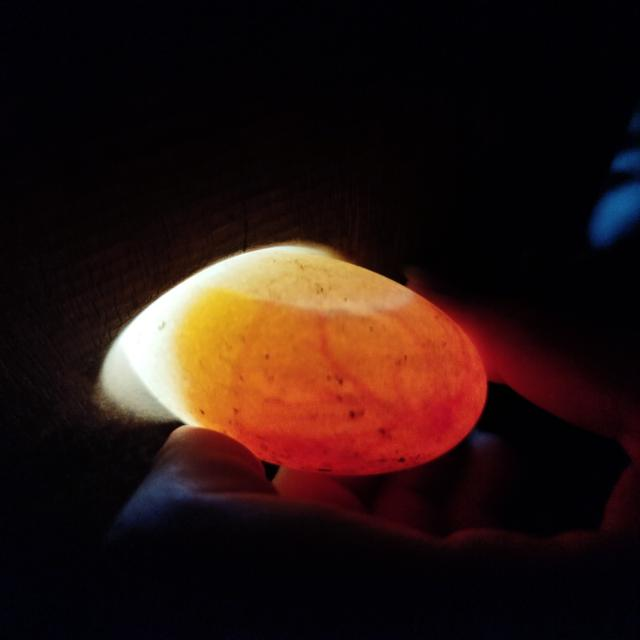Gema Quebrada: (177, 288, 488, 474)
